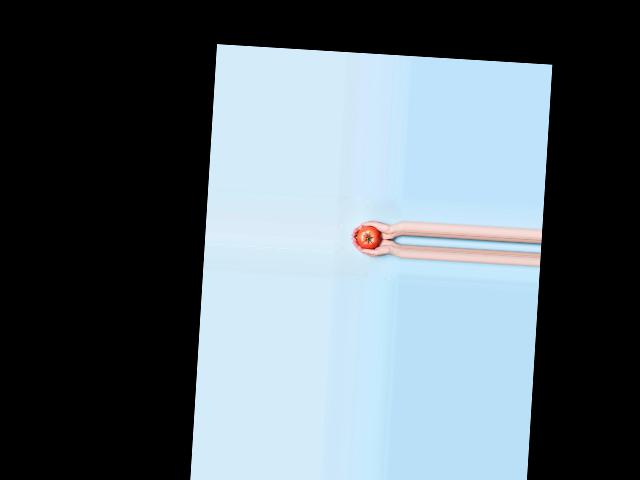tomato: (356, 225, 381, 250)
